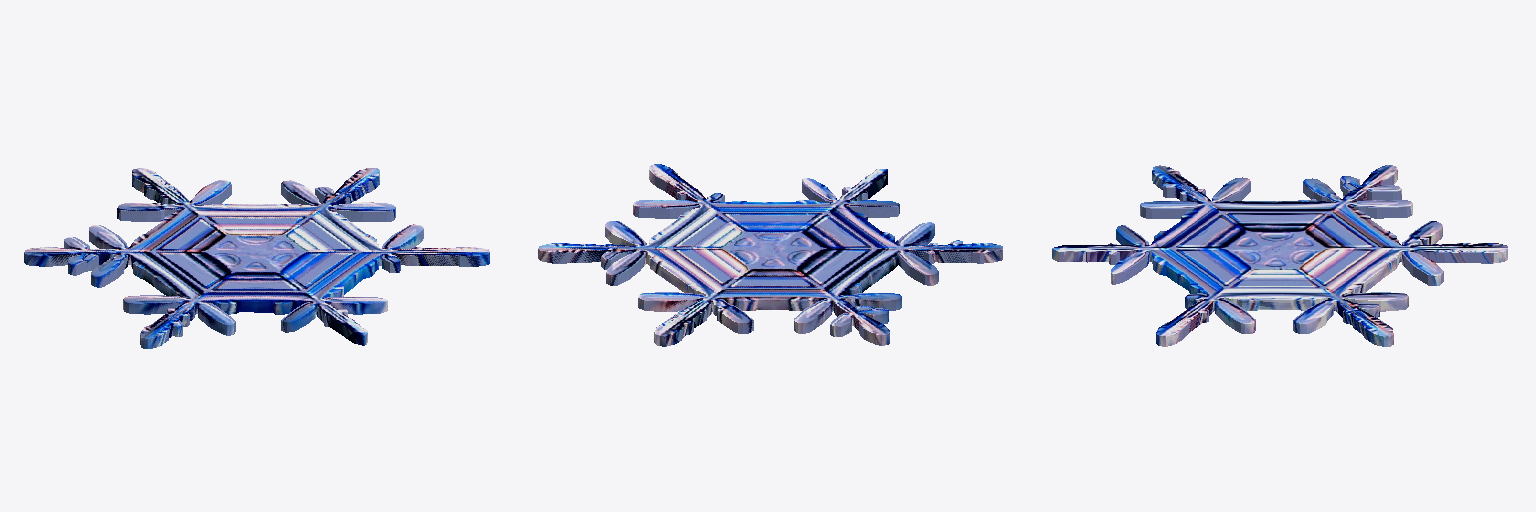
3 renders of one model, left to right at view 1: azimuth 30°, elevation 25°; view 2: azimuth 150°, elevation 25°; view 3: azimuth 270°, elevation 25°, orthographic.
Visible parts, largest first — view 1: Snowflake2_CUBezierCurve.001; view 2: Snowflake2_CUBezierCurve.001; view 3: Snowflake2_CUBezierCurve.001.
Part boxes in pixels (bbox=[...]): Snowflake2_CUBezierCurve.001: bbox=[24, 168, 489, 348]; Snowflake2_CUBezierCurve.001: bbox=[538, 164, 1002, 346]; Snowflake2_CUBezierCurve.001: bbox=[1052, 165, 1507, 346].
Bounding box in the file's own units: 8.61 × 0.244 × 9.67.
Materials: 1 (1 with a texture image).